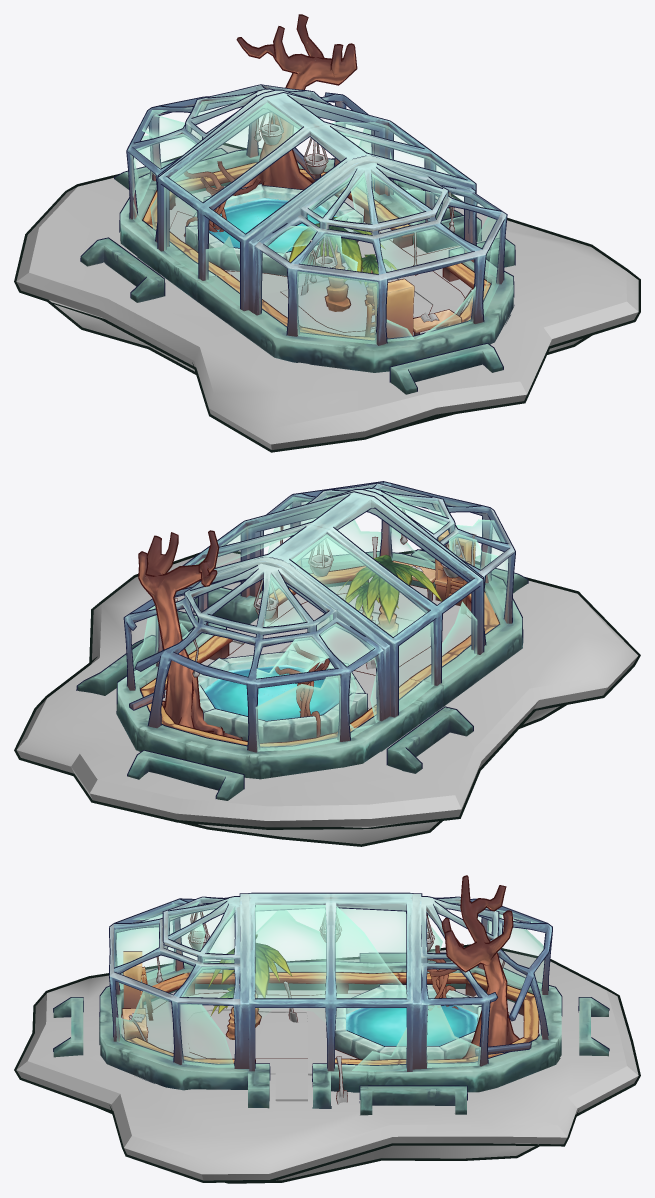
Rendered from collider.gltf.
3 renders of one model, top to bottom at view 1: azimuth 30°, elevation 25°; view 2: azimuth 150°, elevation 25°; view 3: azimuth 270°, elevation 25°, orthographic. The views are drawn at different scales.
Parts seen in each view (by area): view 1: Plane_TT_checker_2_0.001, Cube.042, Cube.037, Cube.001, Cube.007_TT_checker_1_0.001, Cube.002, Cube.004, Circle, Circle.001, Cube.003, Cube.028_TT_checker_2_0.001, Plane_Line art Green _0.001 (+9 smaller); view 2: Plane_TT_checker_2_0.001, Cube.042, Cube.002, Cube.001, Cube.004, Circle, Circle.001, Cube.007_TT_checker_1_0.001, Cube.037, Cube.003, Plane_Line art Green _0.001, Cube.028_TT_checker_2_0.001 (+8 smaller); view 3: Plane_TT_checker_2_0.001, Cube.042, Cube.037, Cube.007_TT_checker_1_0.001, Cube.004, Cube.001, Cube.002, Circle, Cube.028_TT_checker_2_0.001, Circle.001, Plane_Line art Green _0.001, Cube.003 (+8 smaller).
Boxes of the visible parts, box(x1,y1,x2,y2) form: Plane_TT_checker_2_0.001: box(16, 145, 638, 449); Cube.042: box(130, 95, 501, 344); Cube.037: box(254, 162, 507, 345); Cube.001: box(157, 92, 476, 311); Cube.007_TT_checker_1_0.001: box(196, 216, 514, 372); Cube.002: box(126, 84, 374, 242); Cube.004: box(119, 148, 425, 300); Circle: box(185, 183, 363, 275); Circle.001: box(236, 14, 357, 197); Cube.003: box(157, 89, 476, 313); Cube.028_TT_checker_2_0.001: box(169, 211, 468, 336); Plane_Line art Green _0.001: box(14, 143, 640, 452); Plane_TT_checker_2_0.001: box(16, 553, 638, 844); Cube.042: box(133, 488, 510, 751); Cube.002: box(123, 563, 384, 752); Cube.001: box(182, 491, 484, 717); Cube.004: box(116, 627, 443, 779); Circle: box(198, 650, 367, 742); Circle.001: box(138, 530, 242, 739); Cube.007_TT_checker_1_0.001: box(177, 552, 523, 706); Cube.037: box(261, 481, 515, 645); Cube.003: box(162, 489, 483, 719); Plane_Line art Green _0.001: box(14, 549, 640, 846); Cube.028_TT_checker_2_0.001: box(226, 585, 471, 709); Plane_TT_checker_2_0.001: box(16, 947, 638, 1180); Cube.042: box(114, 900, 544, 1071); Cube.037: box(109, 896, 240, 1068); Cube.007_TT_checker_1_0.001: box(99, 962, 331, 1108); Cube.004: box(331, 960, 562, 1092); Cube.001: box(248, 892, 412, 1071); Cube.002: box(421, 896, 552, 1068); Circle: box(335, 984, 481, 1059); Cube.028_TT_checker_2_0.001: box(121, 993, 509, 1101); Circle.001: box(441, 875, 519, 1058); Plane_Line art Green _0.001: box(14, 944, 640, 1183); Cube.003: box(239, 893, 422, 1069).
Bounding box in the file's own units: 20.06 × 10.91 × 23.94.
